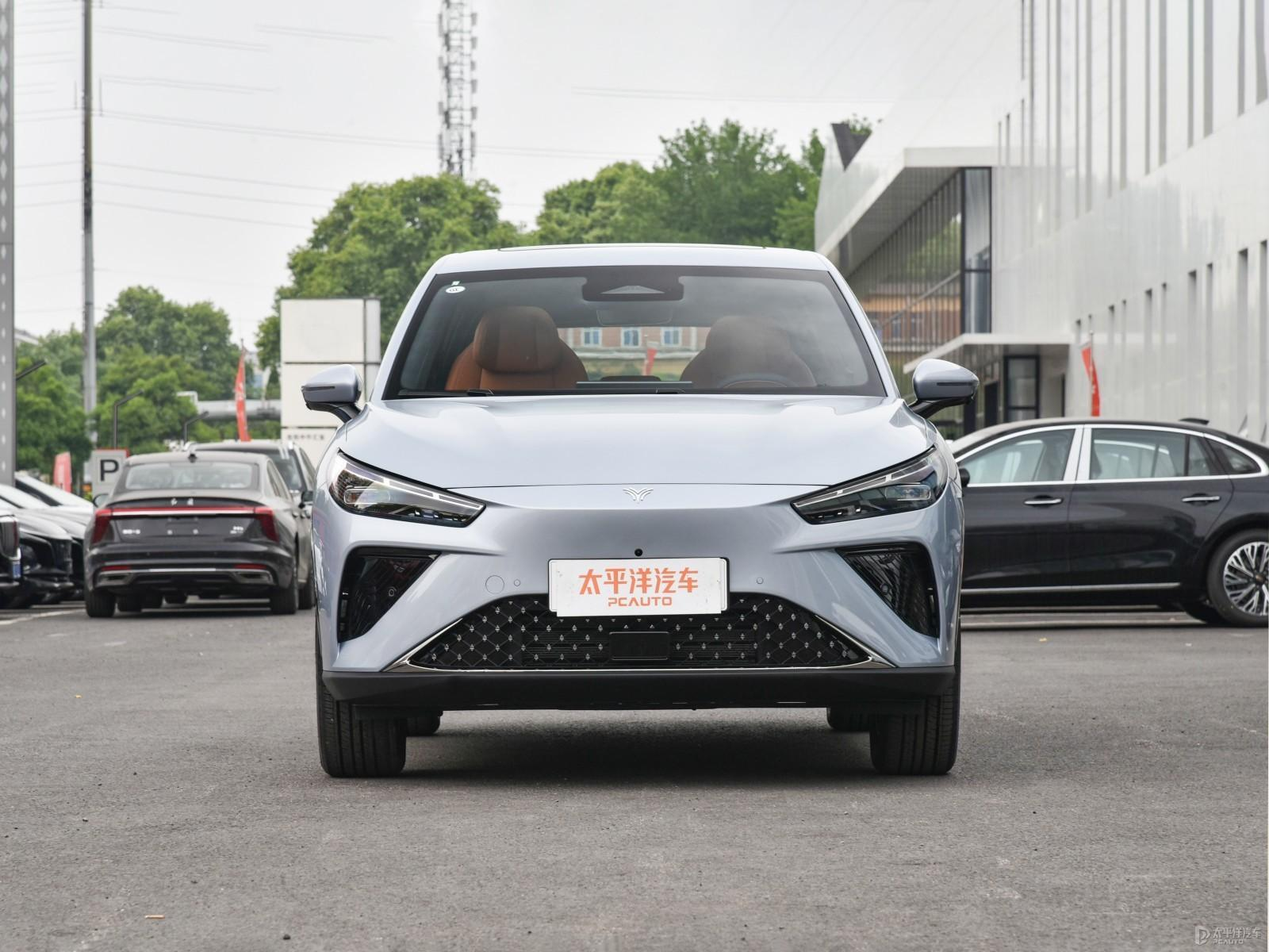NETA: (623, 487, 654, 505)
